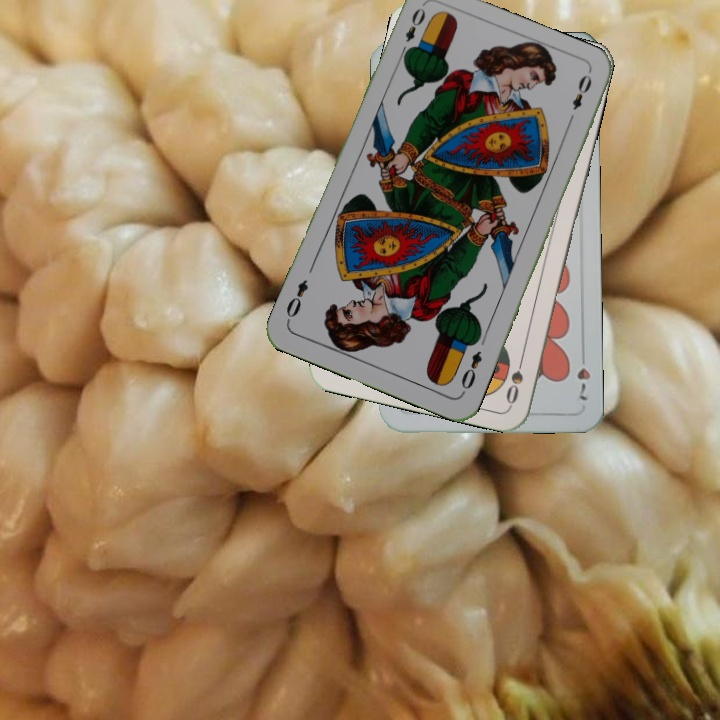EO: (396, 3, 428, 59), (457, 346, 485, 397)
H7: (573, 364, 594, 403)
SO: (502, 349, 527, 407)
